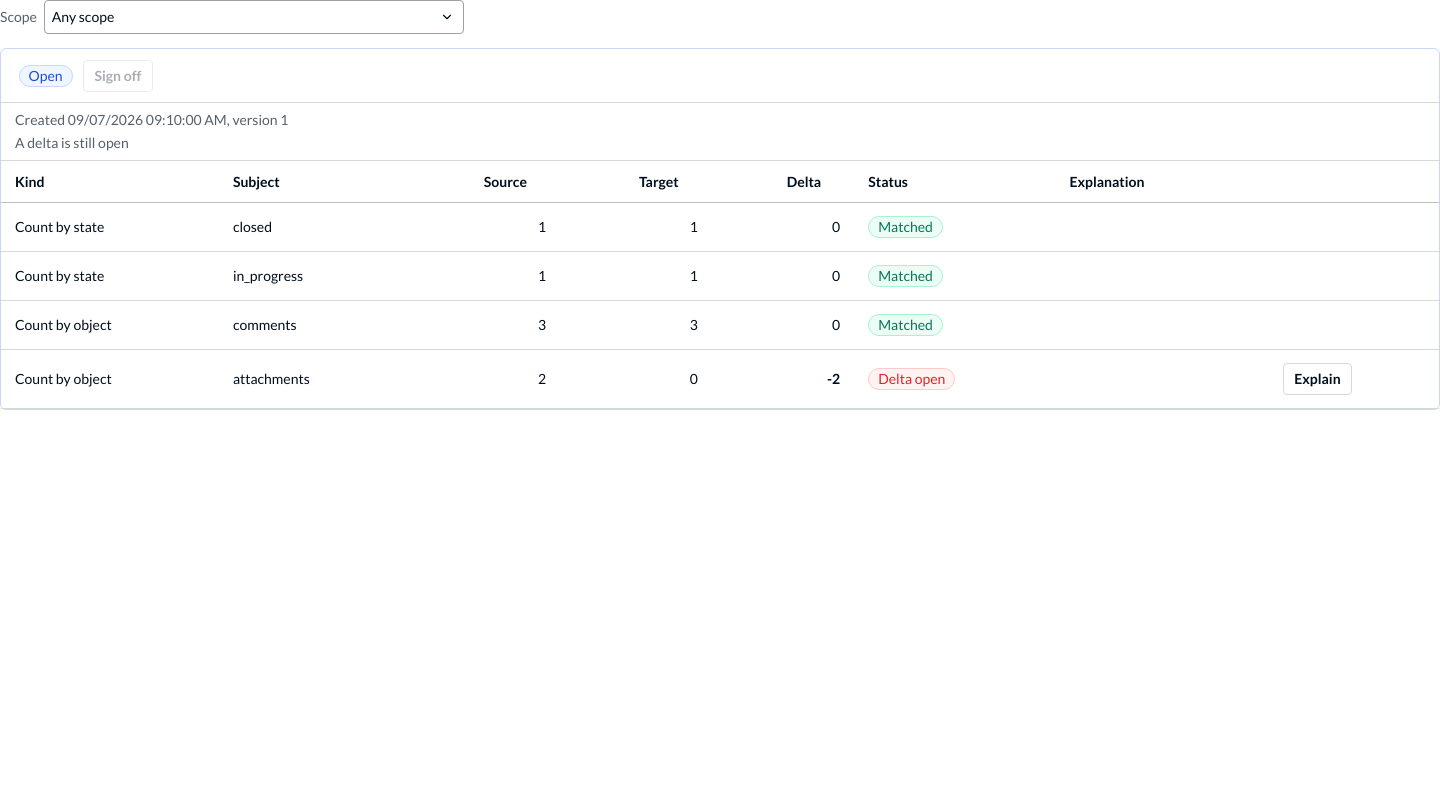
Test case: ReconciliationTab › lists the account's reports with their lines, highlights open deltas and sends the explanation to the line's route
Expected: the text "attachments" is shown, [219, 350, 402, 409]
Expected: the text "Matched" is shown 3 times, [868, 216, 943, 238]; [868, 265, 943, 287]; [868, 314, 943, 336]
Click the button "Explain".
click(1317, 379)  # box [1283, 363, 1352, 395]
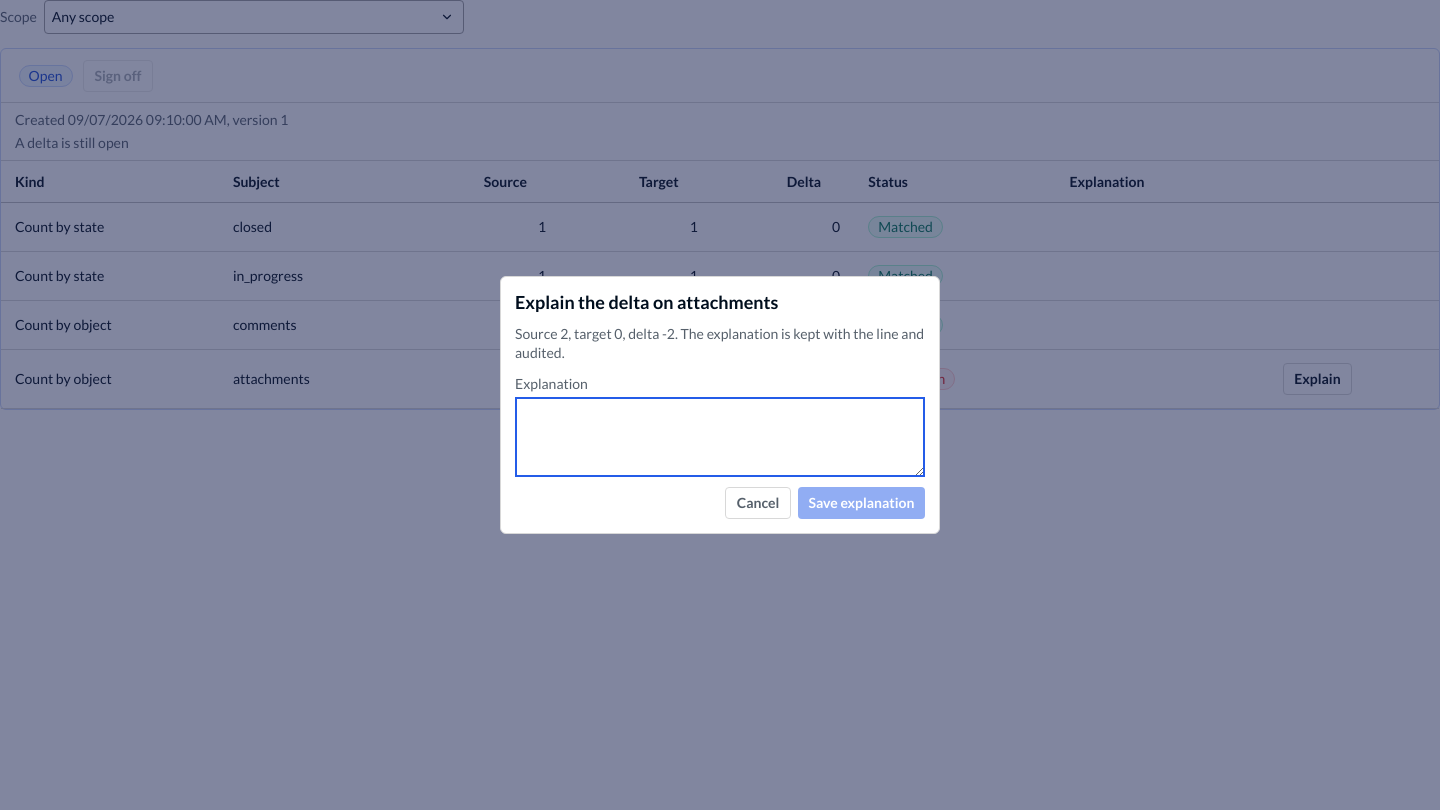
Now the dialog "Explain the delta on attachments" shows "Source 2, target 0, delta -2", box [515, 325, 924, 362]
Now the button "Save explanation" is disabled, box [798, 487, 925, 519]
Type "out of scope" into the text box labelled "Explanation".
click(720, 437); type("out of scope")  # box [515, 397, 925, 477]
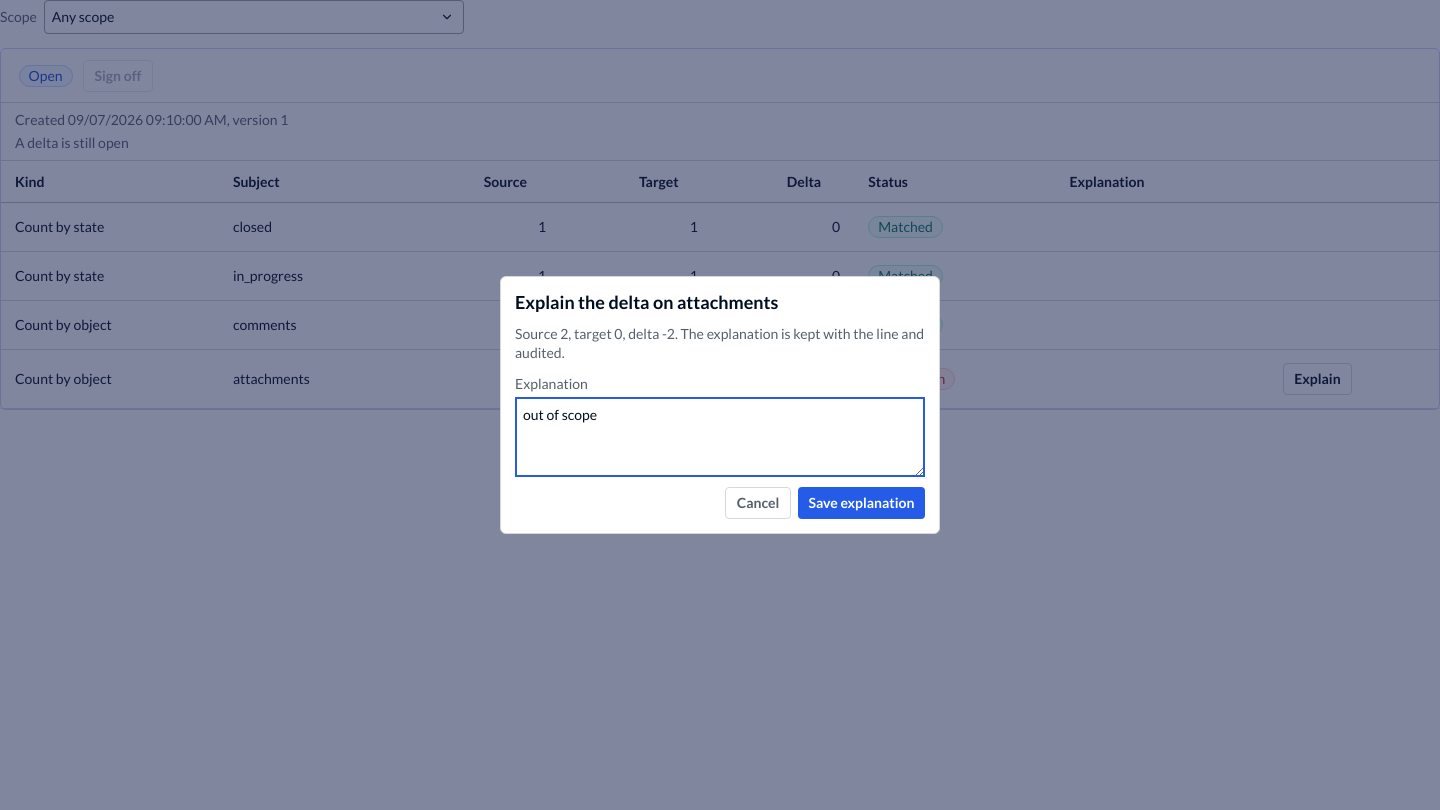
Click the button "Save explanation".
click(861, 503)  # box [798, 487, 925, 519]
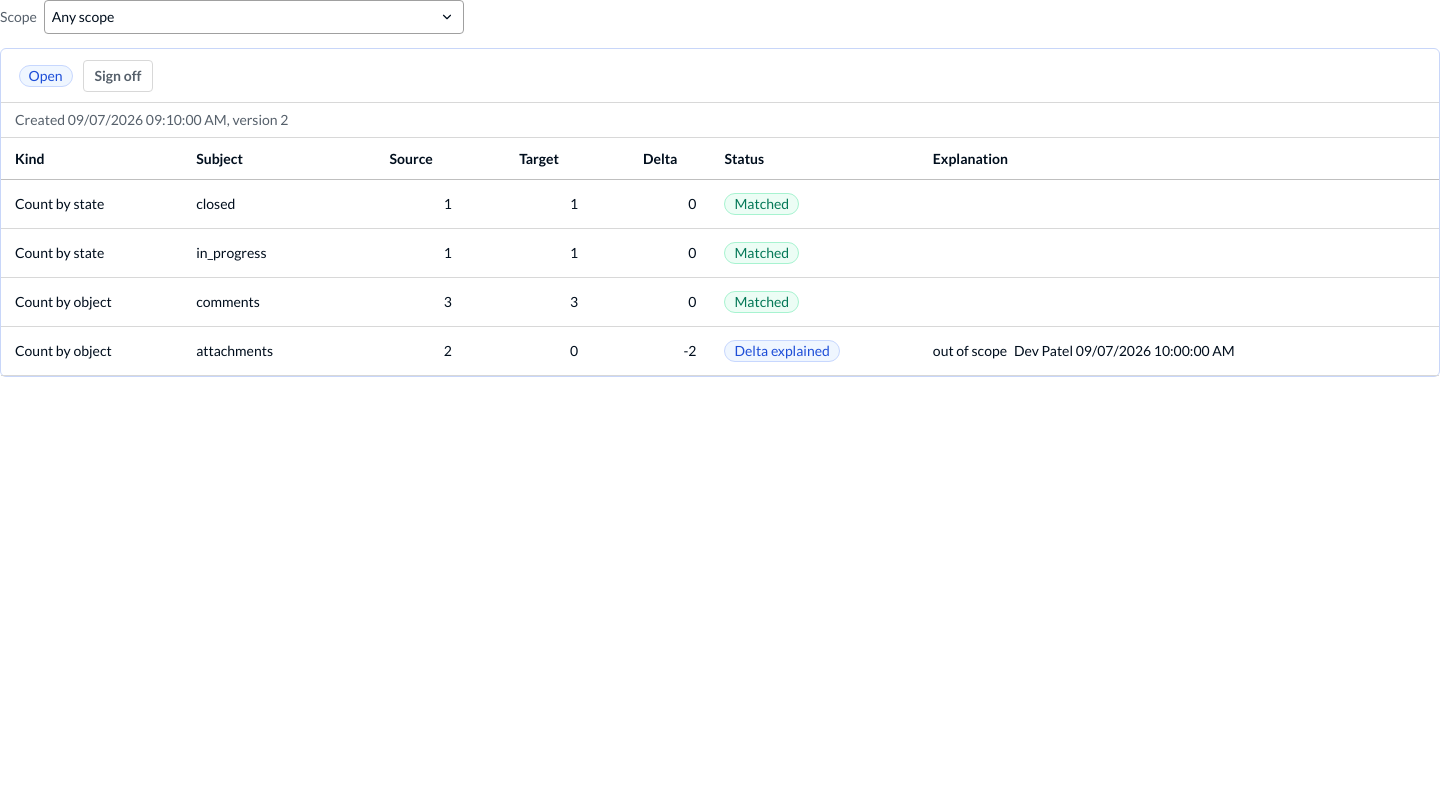
Now the text "Delta explained" is shown, box [724, 340, 840, 362]
Now the element showing "Dev Patel 09/07/2026 10:00:00 AM" is shown, box [1014, 342, 1235, 359]
Now the button "Sign off" is enabled, box [83, 60, 153, 92]
